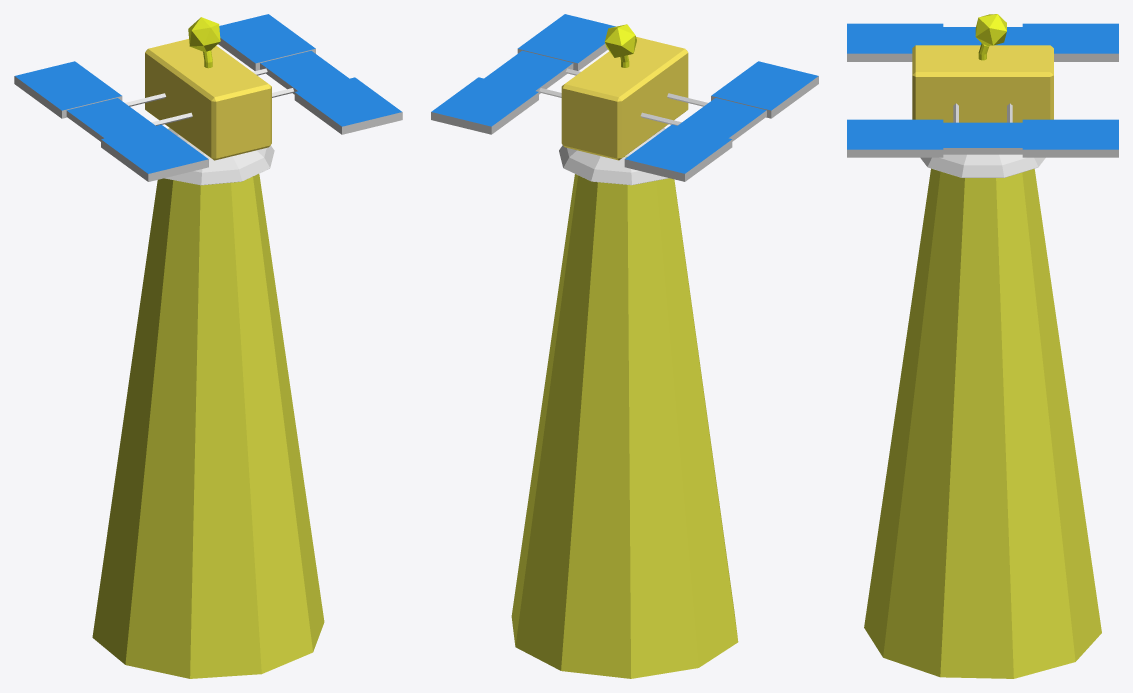
File: Satellite.fbx
The picture shows the model from 3 angles, left to right: view 1: azimuth 30°, elevation 25°; view 2: azimuth 150°, elevation 25°; view 3: azimuth 270°, elevation 25°; orthographic projection.
Parts seen in each view (by area): view 1: UFOLight, Satellite_body; view 2: UFOLight, Satellite_body; view 3: UFOLight, Satellite_body.
Part boxes in pixels (x1,y1,x2,y2): UFOLight: (92,128,324,678); Satellite_body: (14,14,402,185); UFOLight: (511,156,738,678); Satellite_body: (431,14,818,185); UFOLight: (864,168,1101,678); Satellite_body: (847,14,1118,177).
Bounding box in the file's own units: 0.21 × 0.4798 × 0.1917.
